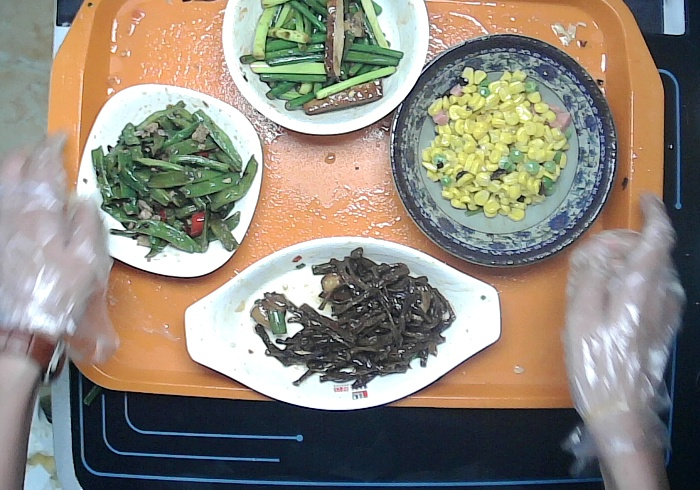ZNLD-Qing_Hua_Wan: (390, 31, 617, 271)
ZNLD-Si_Fang_Wan: (79, 83, 265, 280)
ZNLD-Tang_Wan: (222, 1, 432, 142)
ZNLD-Yu_Pan: (181, 235, 506, 414)
